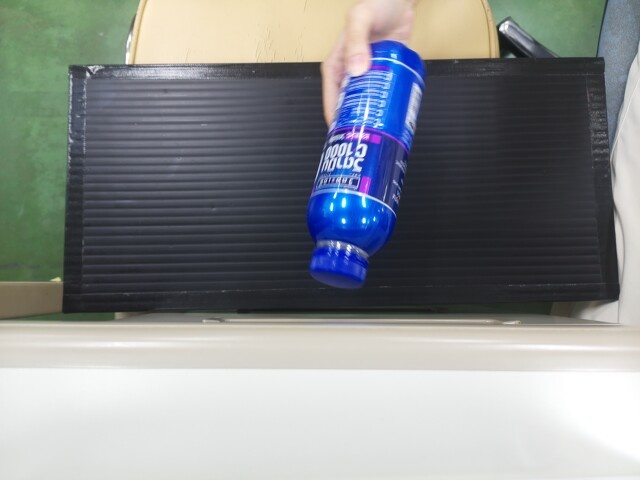plastic_bottle: (312, 29, 424, 285)
